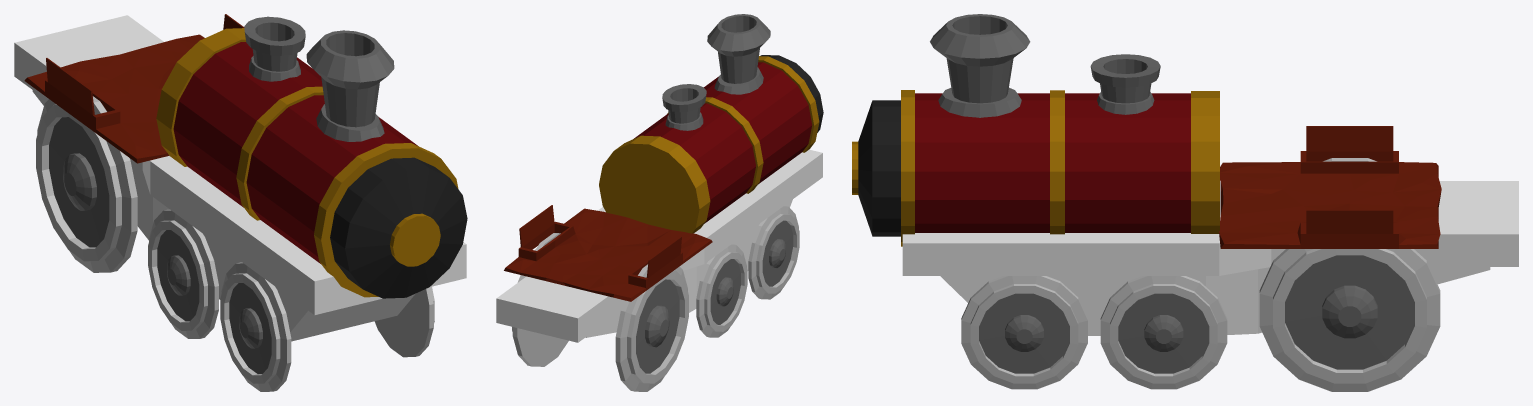
Rendered from Train.fbx.
3 views of the same model, side by side, from view 1: azimuth 30°, elevation 25°; view 2: azimuth 150°, elevation 25°; view 3: azimuth 270°, elevation 25° (orthographic). The views are drawn at different scales.
Parts seen in each view (by area): view 1: TankEngine, Bottom, Wheel.005, Cabin, Pipe2, Wheel.003, Wheel.004, Pipe1, Wheel.002; view 2: TankEngine, Bottom, Cabin, Wheel.005, Pipe2, Wheel.003, Wheel.004, Pipe1, Wheel; view 3: TankEngine, Bottom, Cabin, Wheel, Wheel.001, Wheel.002, Pipe2, Pipe1.
Part boxes in pixels (bbox=[...]): TankEngine: bbox=[156, 28, 467, 298]; Bottom: bbox=[14, 15, 466, 341]; Wheel.005: bbox=[36, 96, 137, 272]; Cabin: bbox=[24, 14, 244, 163]; Pipe2: bbox=[306, 30, 394, 141]; Wheel.003: bbox=[220, 262, 291, 391]; Wheel.004: bbox=[148, 209, 218, 338]; Pipe1: bbox=[244, 16, 305, 81]; Wheel.002: bbox=[374, 286, 434, 357]; TankEngine: bbox=[599, 55, 823, 233]; Bottom: bbox=[496, 149, 822, 342]; Cabin: bbox=[504, 205, 712, 301]; Wheel.005: bbox=[615, 264, 688, 391]; Pipe2: bbox=[707, 14, 770, 94]; Wheel.003: bbox=[748, 206, 799, 299]; Wheel.004: bbox=[696, 244, 747, 337]; Pipe1: bbox=[662, 84, 706, 130]; Wheel: bbox=[512, 233, 568, 366]; TankEngine: bbox=[852, 90, 1219, 246]; Bottom: bbox=[902, 180, 1518, 335]; Cabin: bbox=[1219, 126, 1441, 248]; Wheel: bbox=[1259, 249, 1440, 391]; Wheel.001: bbox=[1100, 276, 1227, 389]; Wheel.002: bbox=[961, 276, 1087, 389]; Pipe2: bbox=[930, 14, 1030, 117]; Pipe1: bbox=[1090, 54, 1160, 114].
Size of the model in its own units: 249 by 453 by 826.
